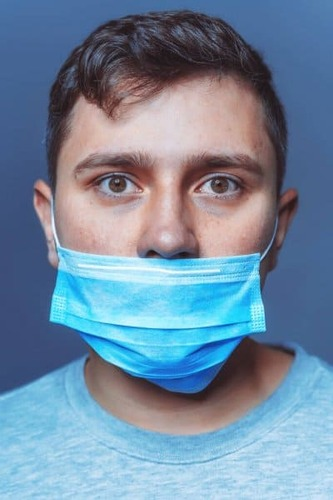with_incorrect_mask: (53, 109, 272, 352)
